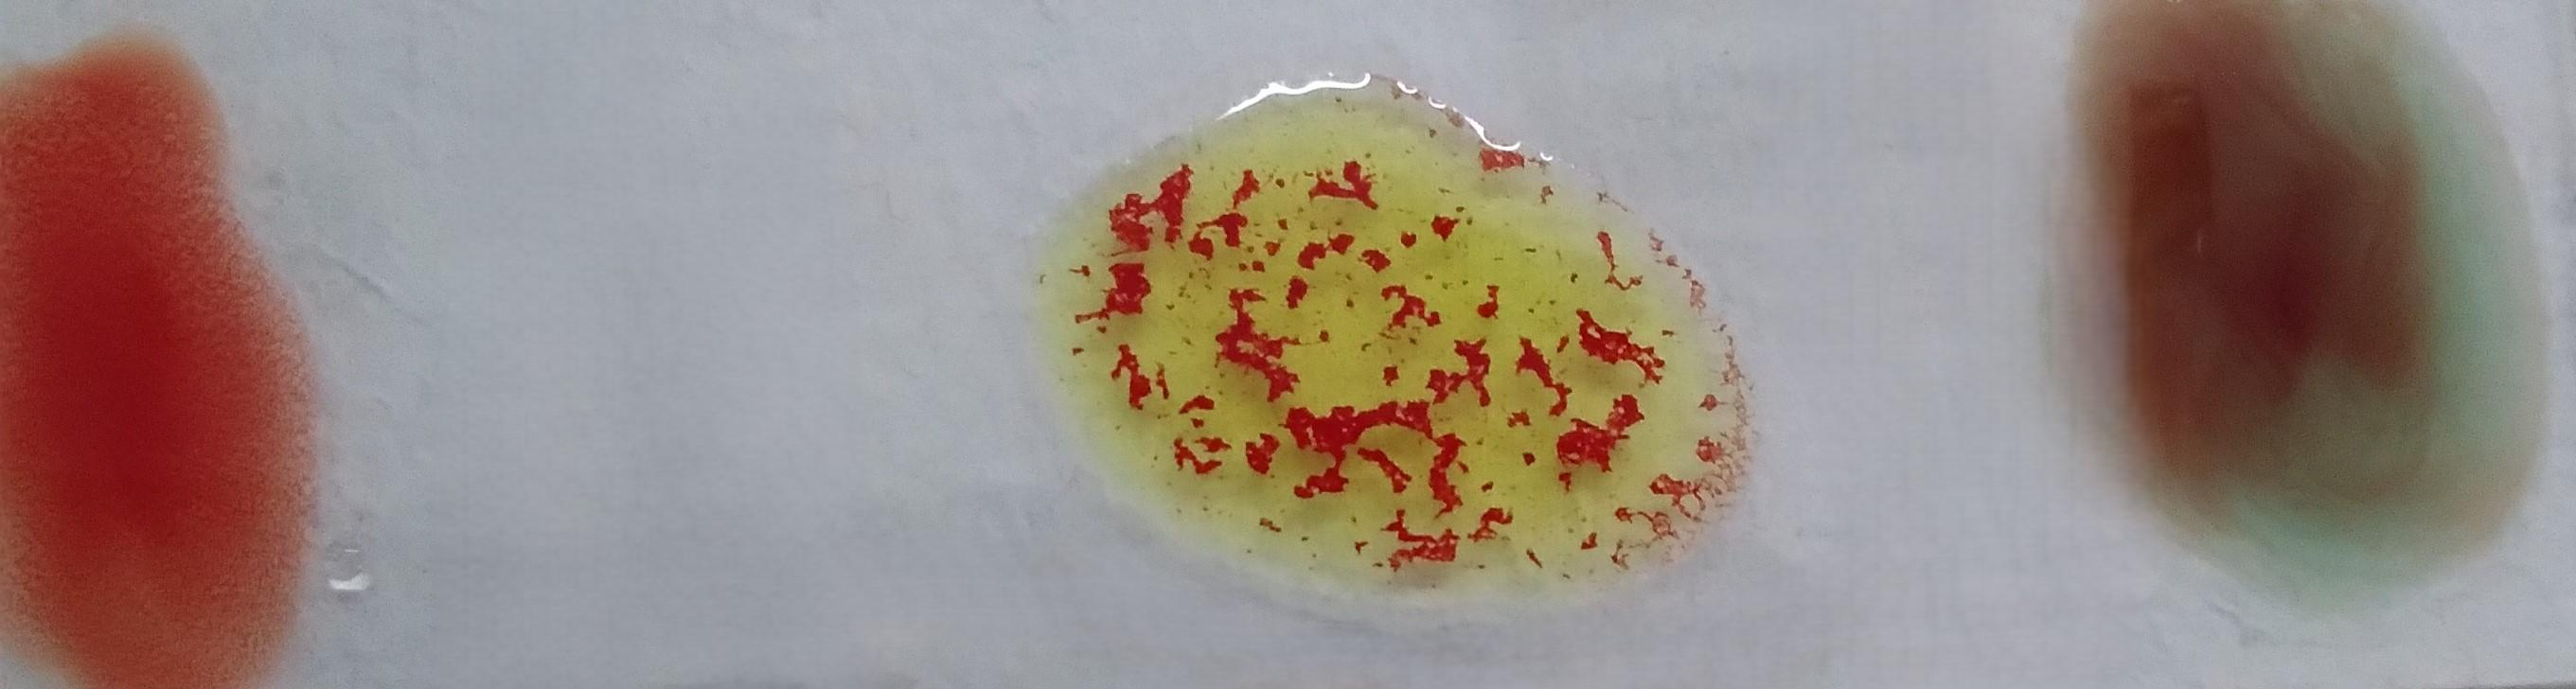B: (1069, 69, 1751, 591)
D: (16, 38, 289, 689)
